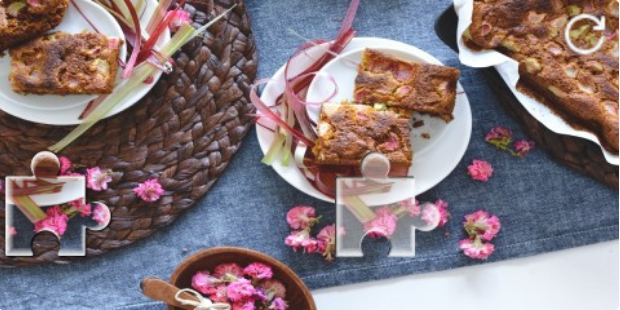target: (336, 152, 439, 258)
